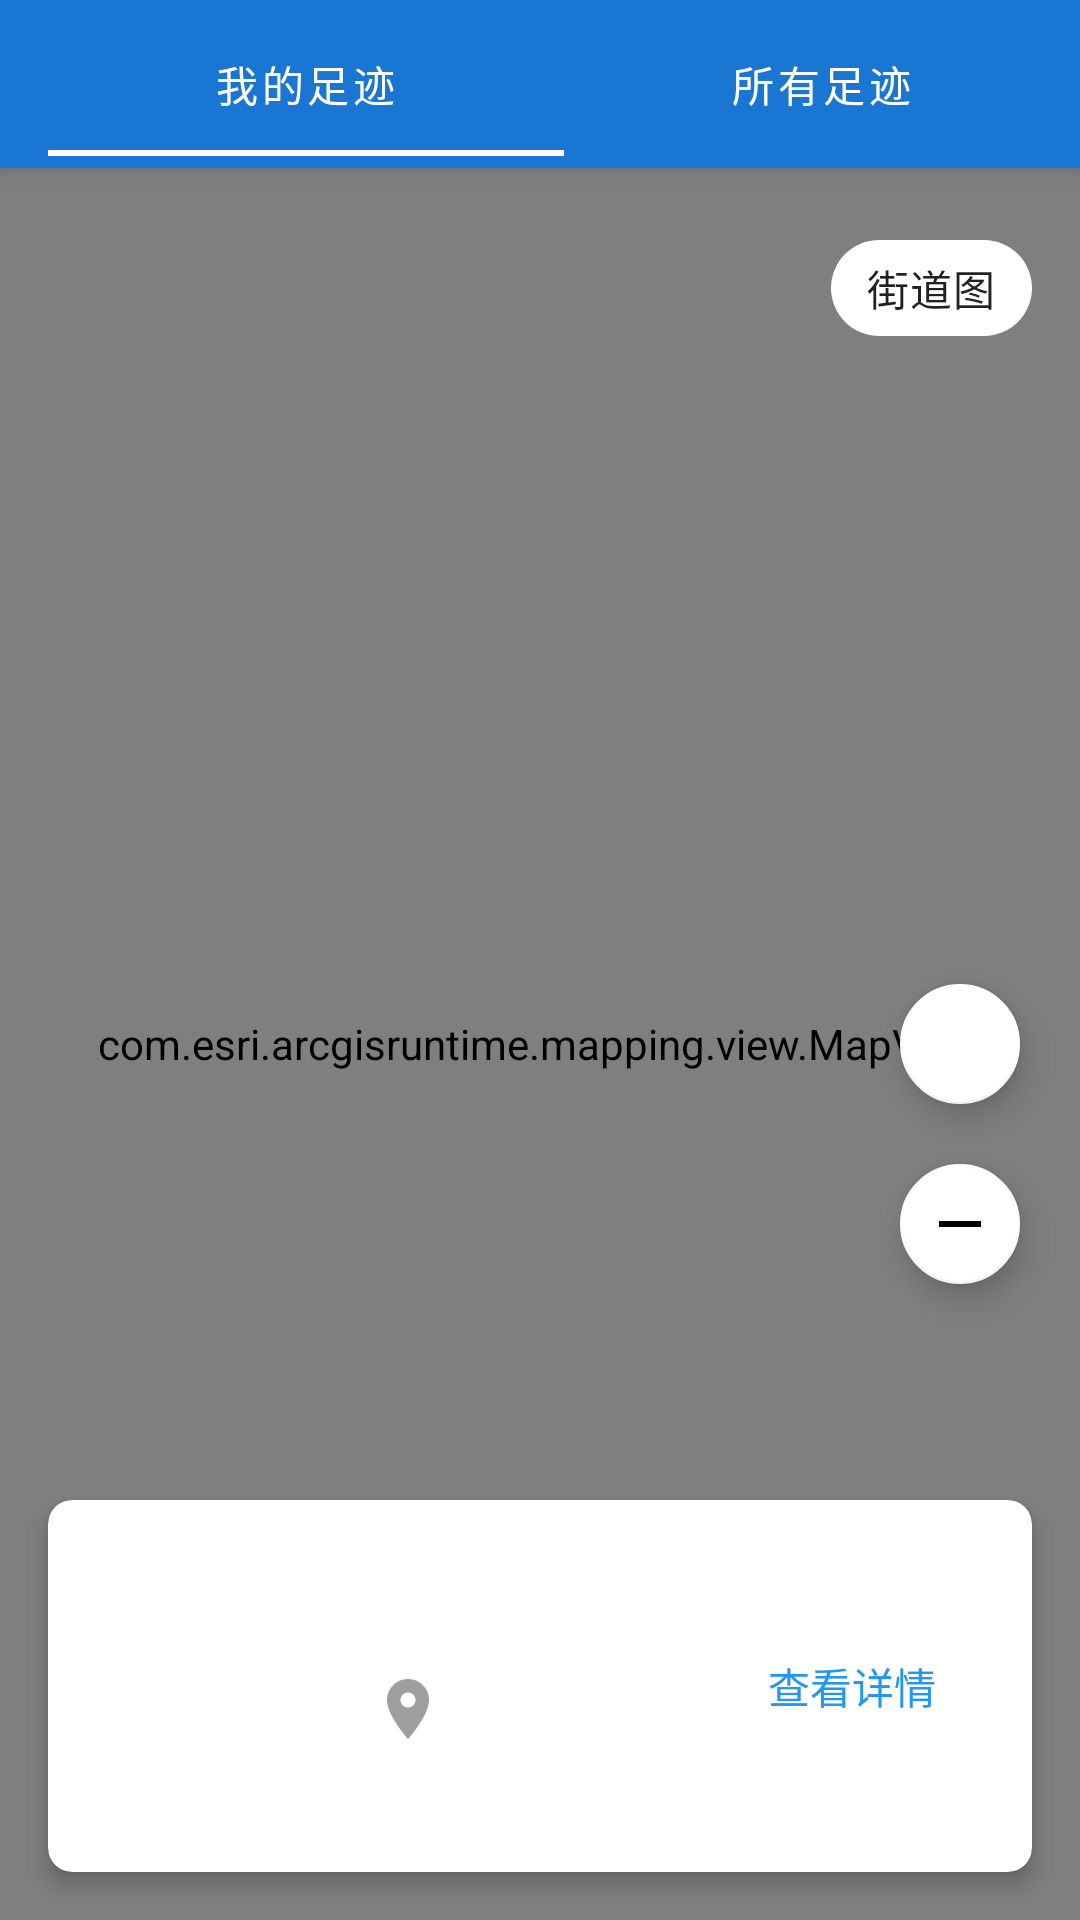

Screen size 1080 x 1920. Icon name, then its center in pixels as point (x, y):
缩小: point (960, 1224)
